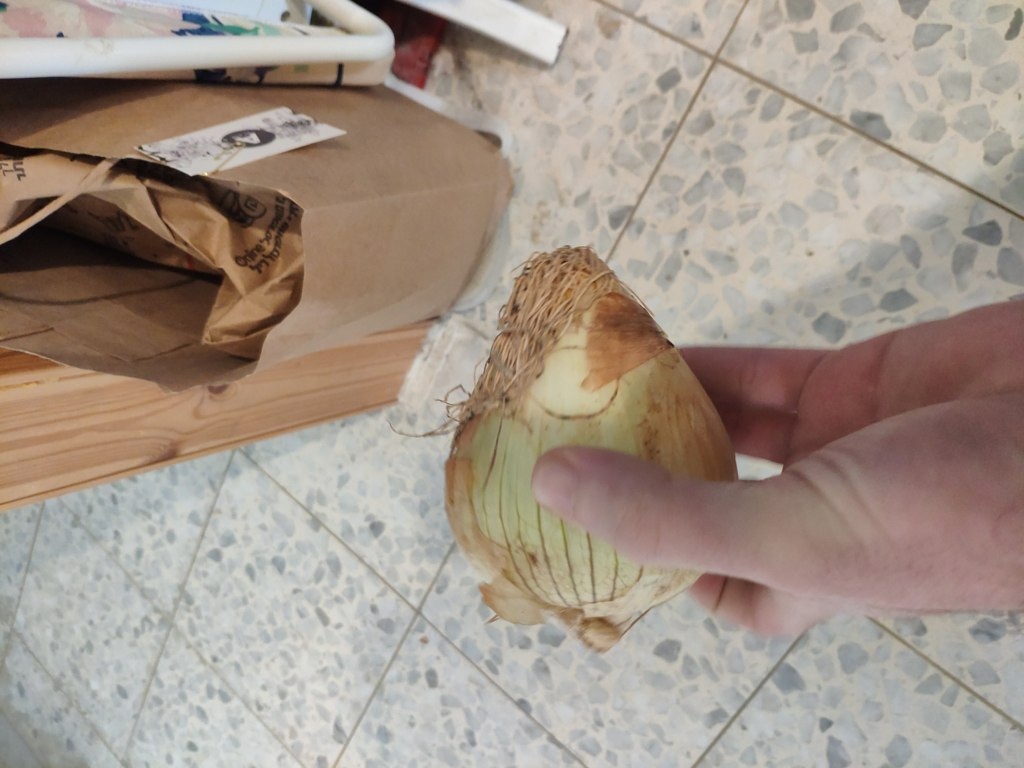Onion: (434, 241, 752, 645)
